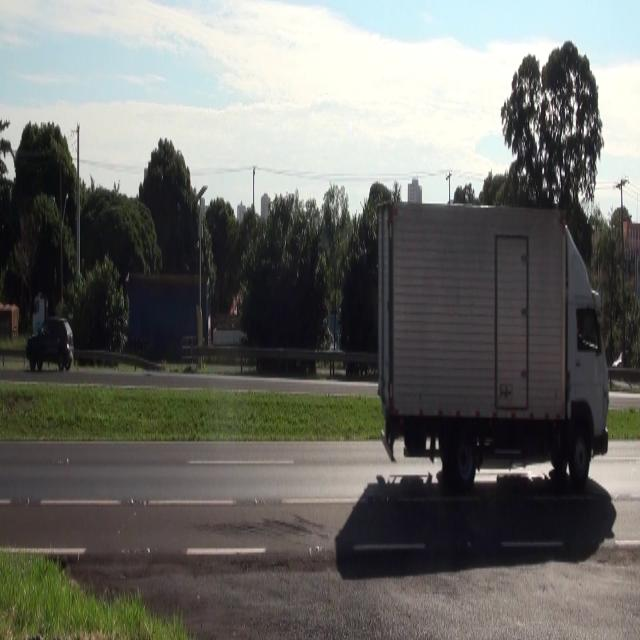-axle: (448, 416, 478, 493), (567, 412, 597, 488)
